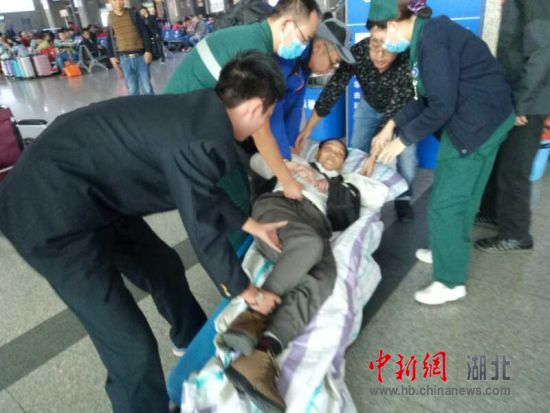fall: (188, 121, 359, 413)
